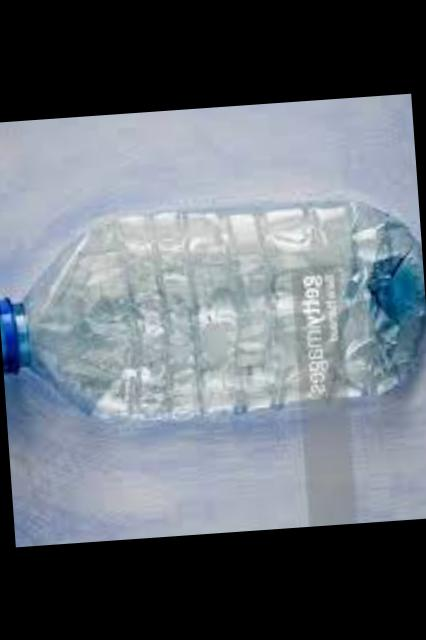plastic: (0, 203, 426, 409)
